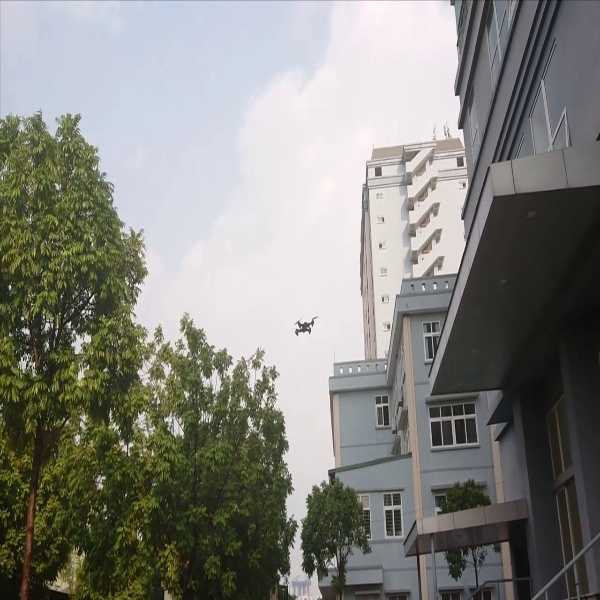drone: (289, 311, 320, 341)
